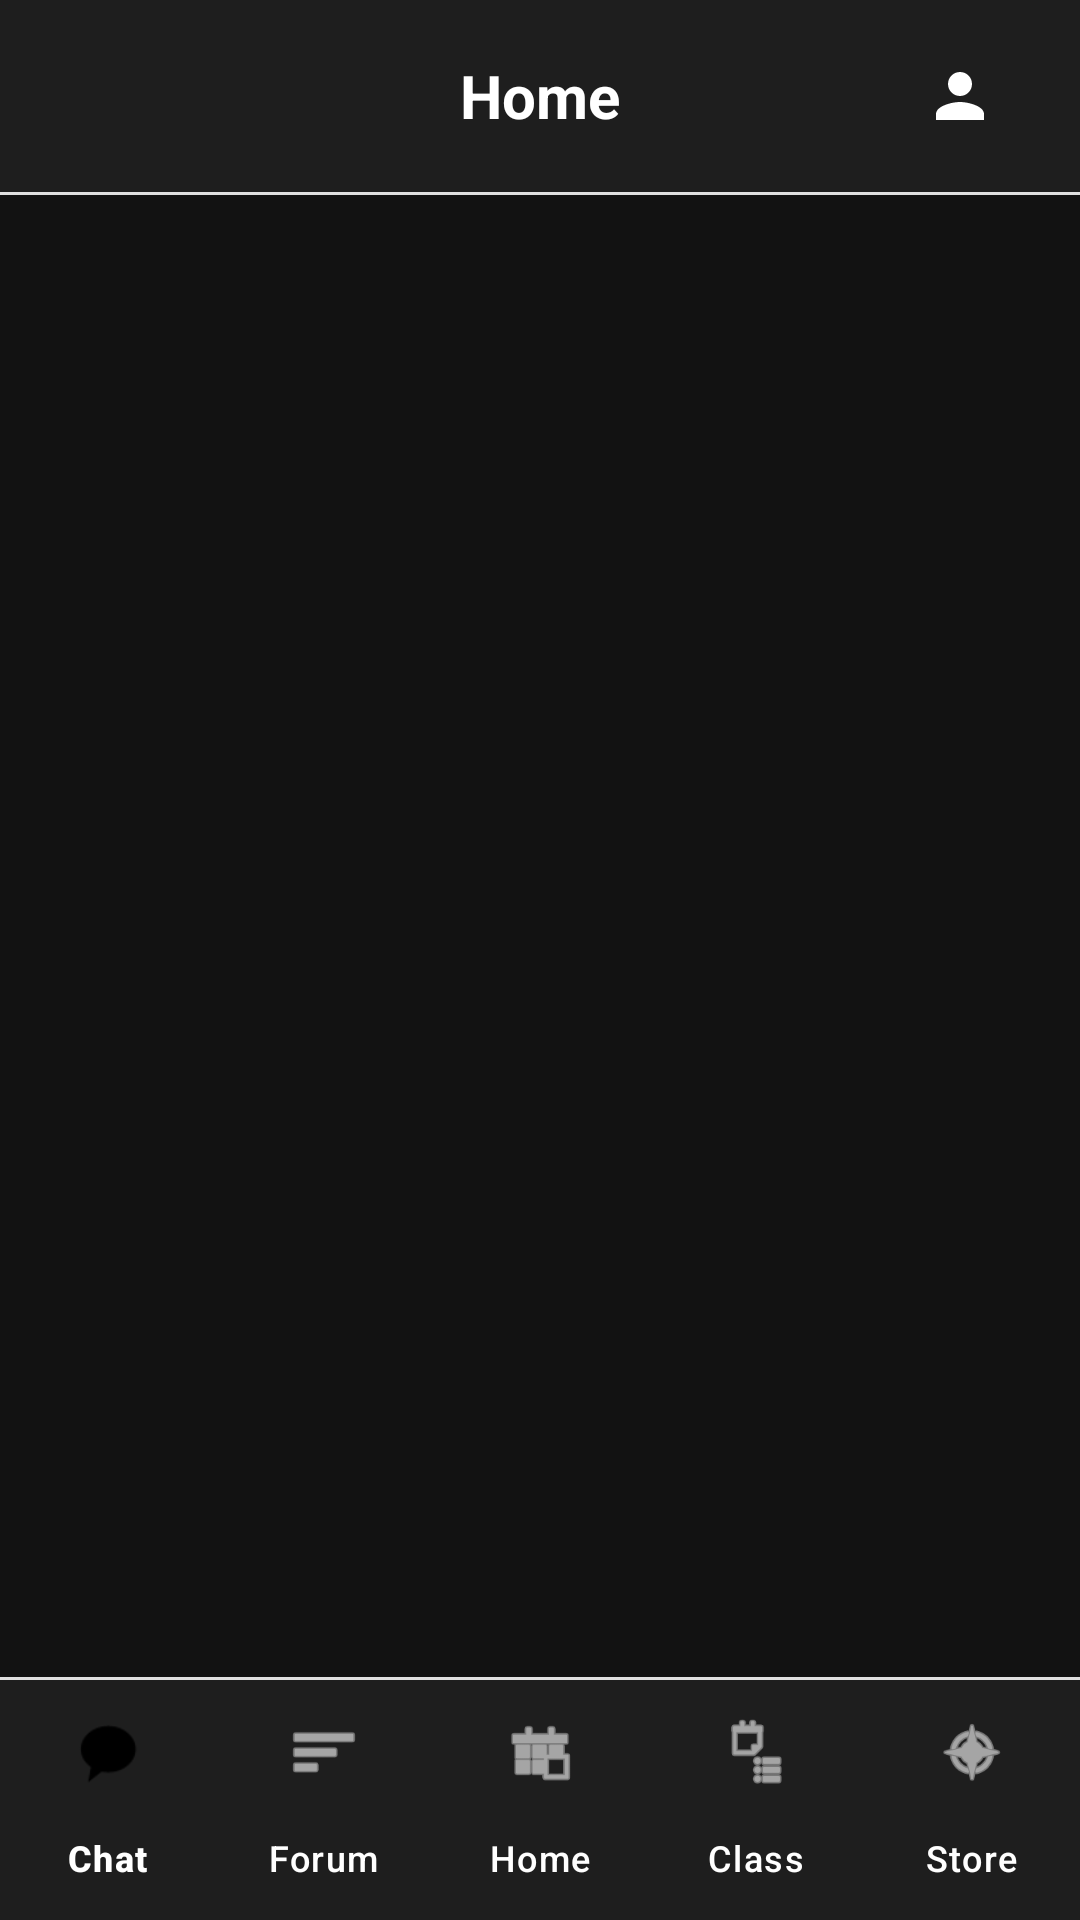

Locate icon controls on the screen. Image size 1080w x 1920h, boxes as box(x1, y1, x2, y2).
Profile: box(936, 72, 984, 120)
